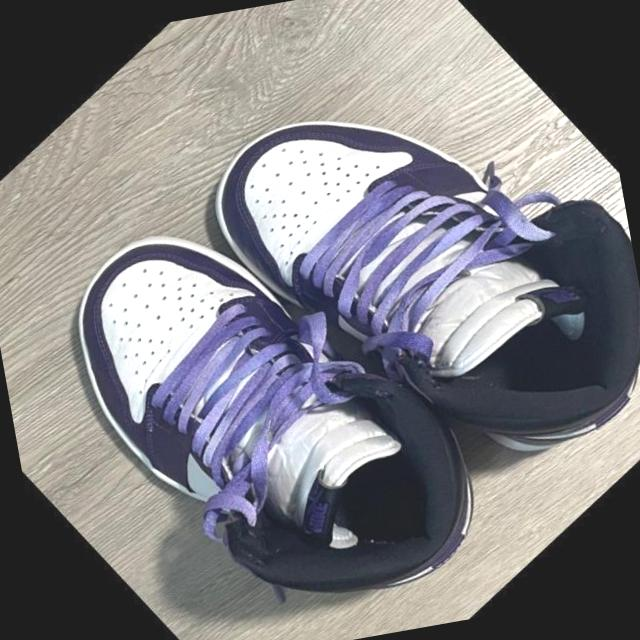nike_original_jordan: (0, 123, 534, 640), (159, 0, 640, 569)
